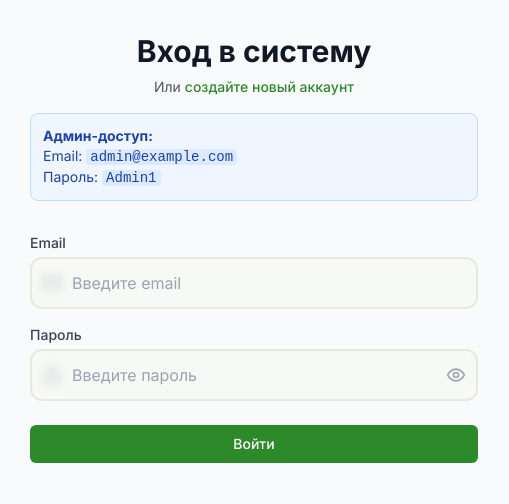
LoginForm › shows validation errors for empty fields
The width and height of the screenshot is (509, 504).
Click the button "Войти" at (254, 444), box [30,425,478,463]
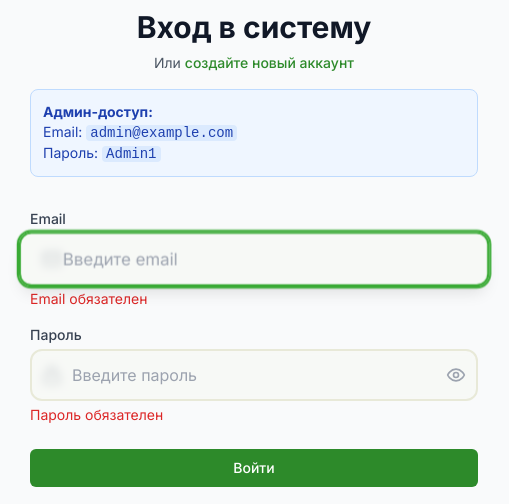
Expected: the text "Email обязателен" is shown, [30,290,147,307]
Expected: the text "Пароль обязателен" is shown, [30,406,163,423]
